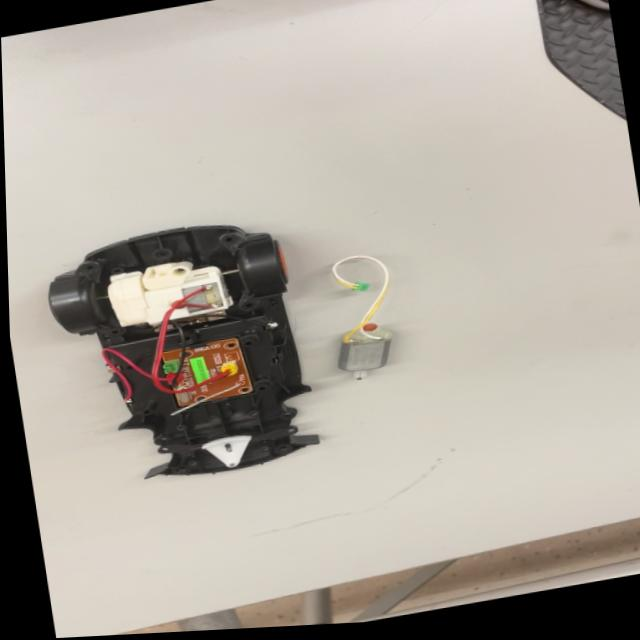Chassis: (39, 204, 329, 498)
motor: (331, 316, 392, 385)
